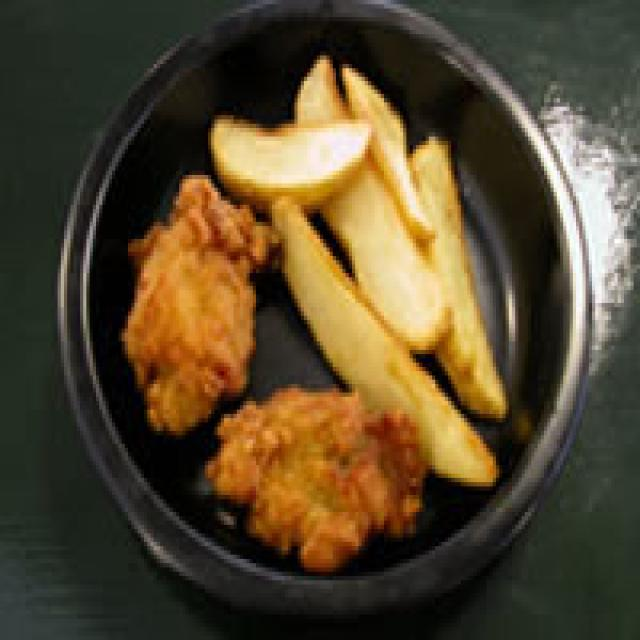鸡肉料理 含炸鸡: (60, 149, 458, 589)
